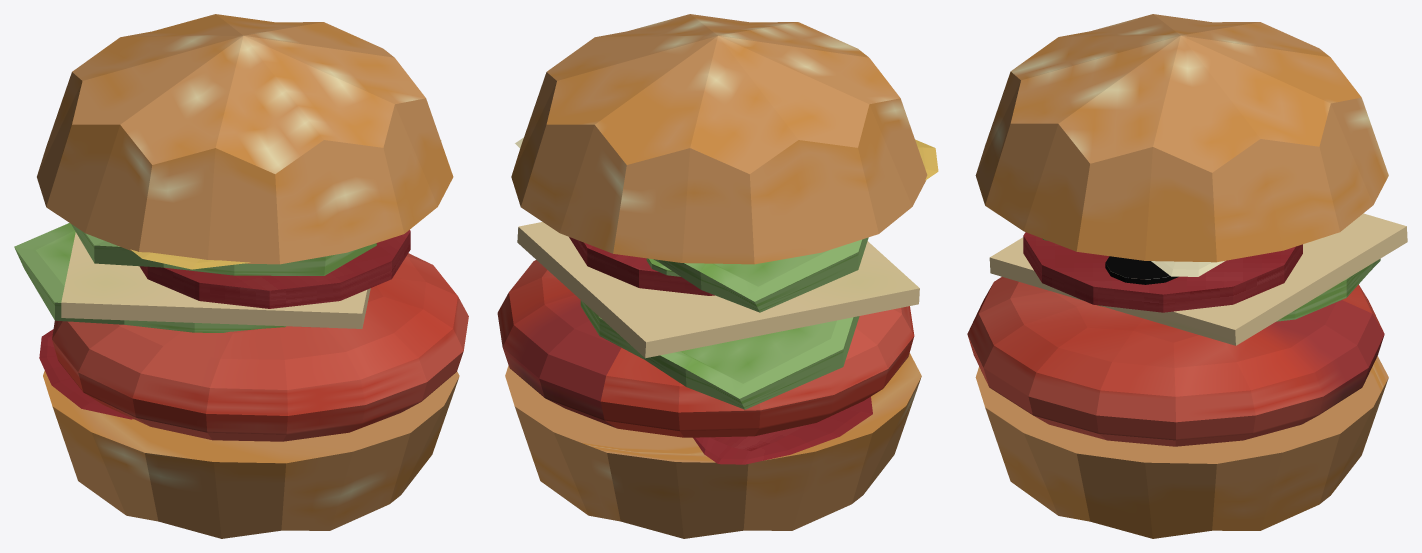
The model's file is Hamburger.obj.
3 renders of one model, left to right at view 1: azimuth 30°, elevation 25°; view 2: azimuth 150°, elevation 25°; view 3: azimuth 270°, elevation 25°, orthographic.
Parts seen in each view (by area): view 1: Hamburger; view 2: Hamburger; view 3: Hamburger.
Part boxes in pixels (box(x1,y1,x2,y2)): Hamburger: box(14, 14, 468, 538); Hamburger: box(497, 14, 938, 538); Hamburger: box(967, 14, 1407, 538).
Bounding box in the file's own units: 0.8916 × 1.06 × 0.8819.
